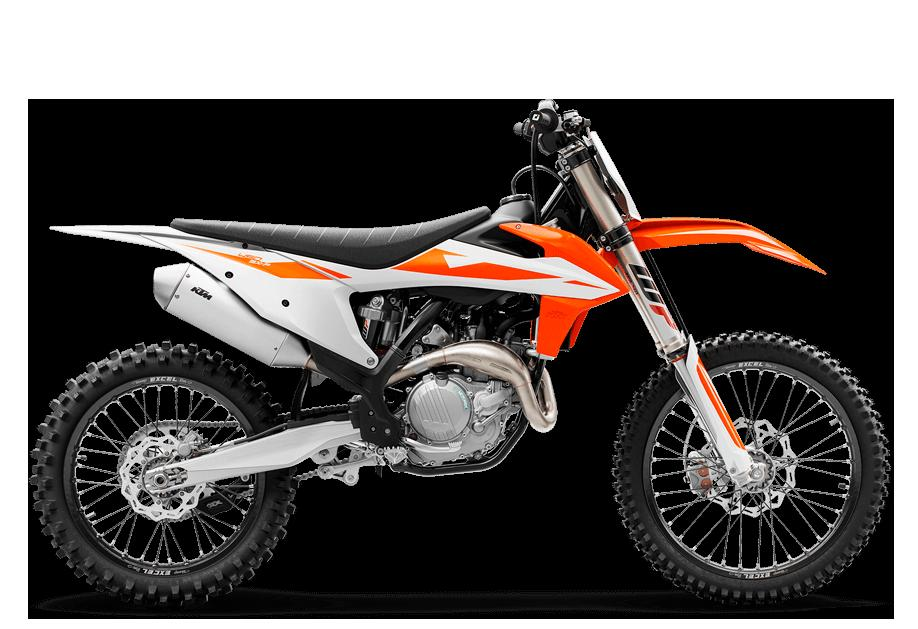motorbike: (28, 99, 890, 607)
